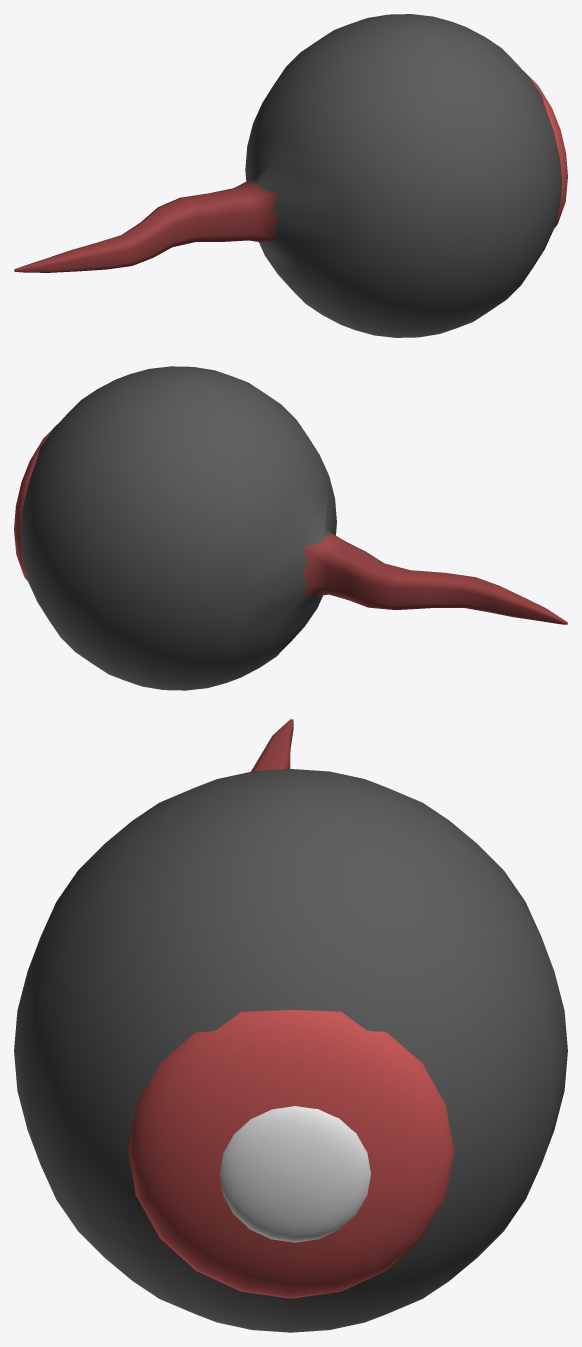
The model's file is Evil Eye.fbx.
3 renders of one model, top to bottom at view 1: azimuth 30°, elevation 25°; view 2: azimuth 150°, elevation 25°; view 3: azimuth 270°, elevation 25°, orthographic. The views are drawn at different scales.
Visible parts, largest first — view 1: pSphere4; view 2: pSphere4; view 3: pSphere4.
Boxes of the visible parts, x1,y1,x2,y2 form: pSphere4: (14,14,567,337); pSphere4: (14,366,567,690); pSphere4: (14,719,567,1332).
Size of the model in its own units: 10.44 by 5.54 by 5.39.
